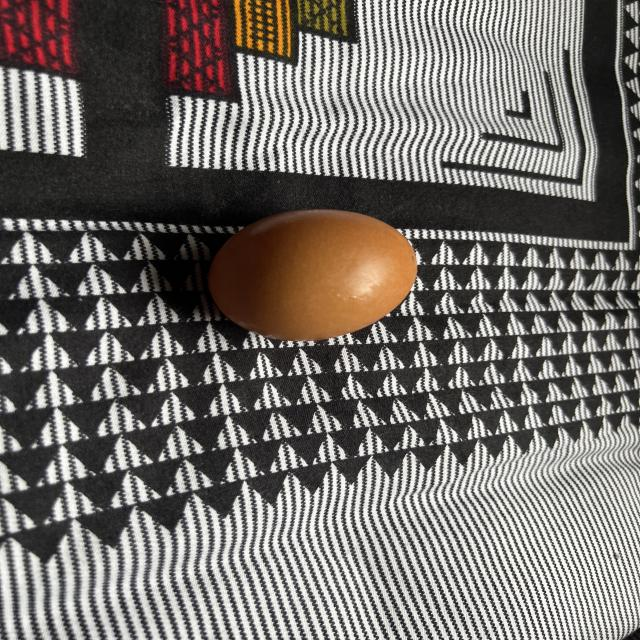Egg: (195, 203, 428, 342)
